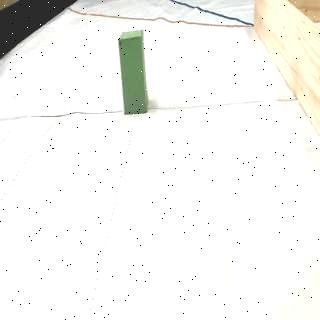greenbox: (120, 31, 148, 114)
